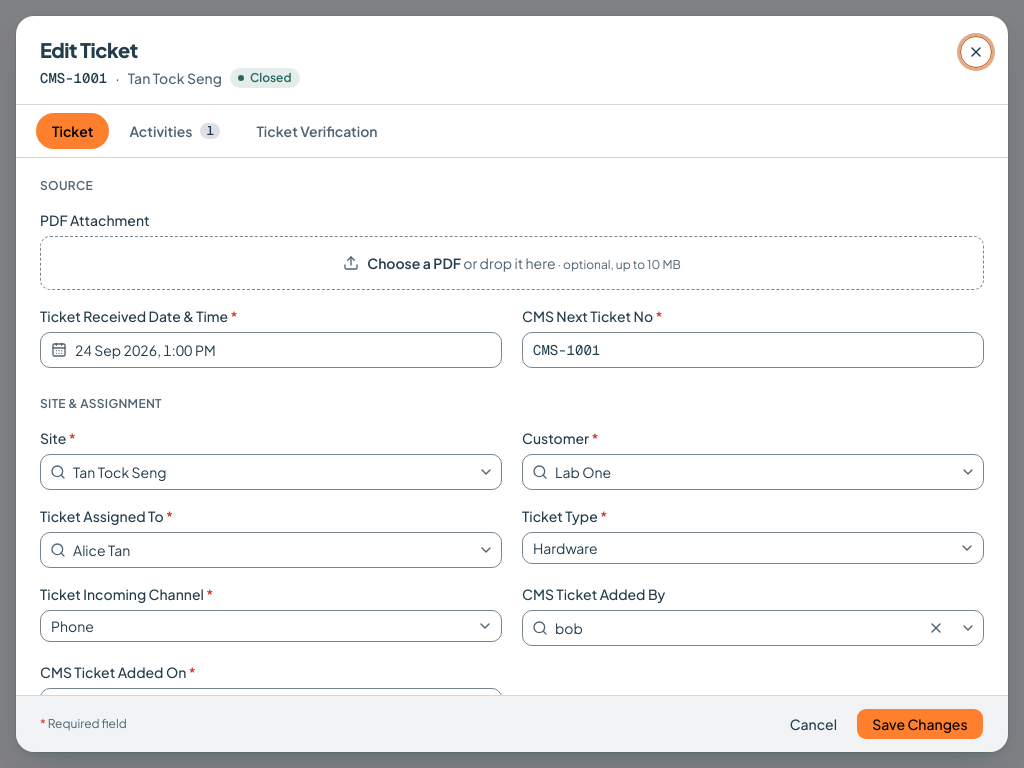
ticket form tab indicators › flags the tabs the API's 400 points at, and opens the first one
Step 1. Click the button "Save Changes" → {"x": 920, "y": 724}, box [856,708,984,740]
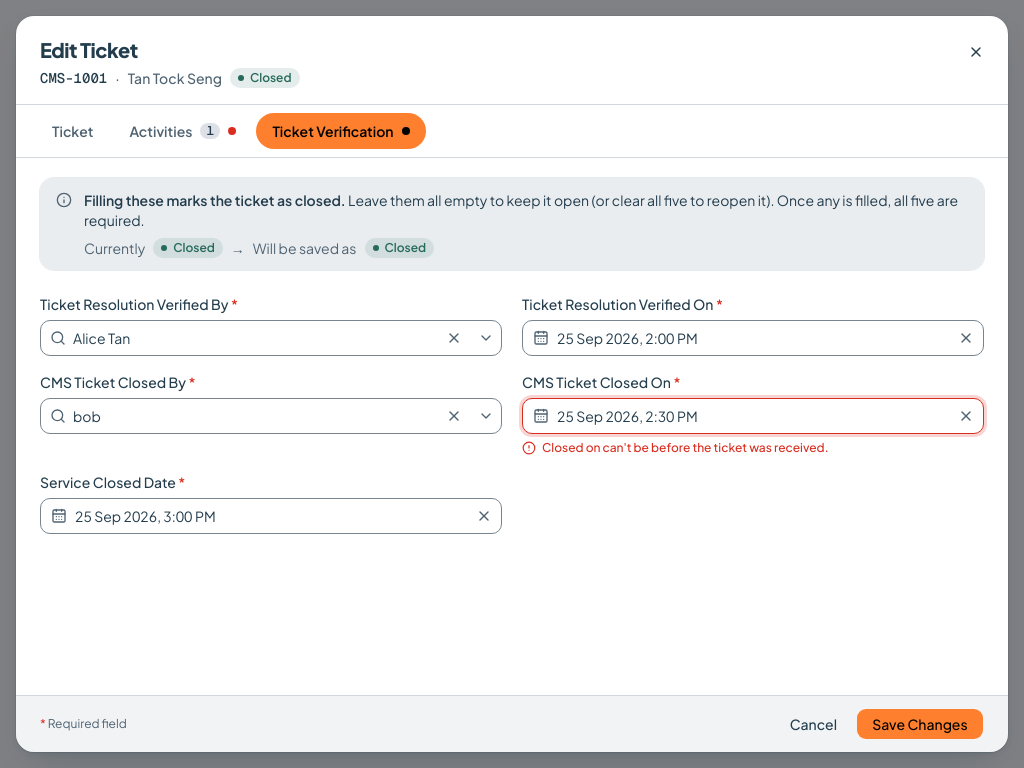
Result: the text "Closed on can't be before the ticket was received." is shown at [522,440,828,455]
